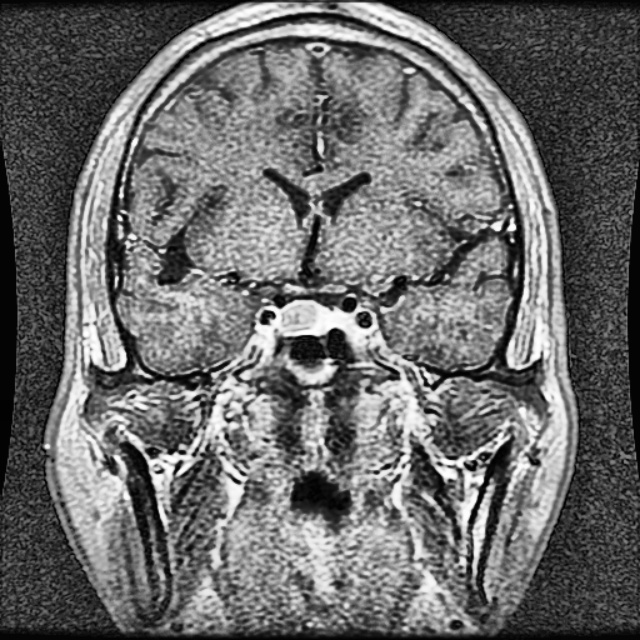Pituitary: (274, 300, 333, 335)
